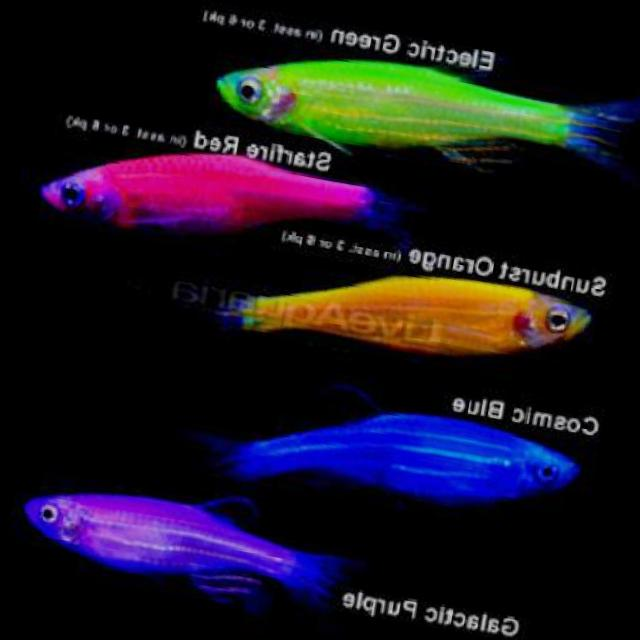ZebraFish: (206, 8, 640, 199), (231, 236, 599, 394), (228, 378, 584, 540), (31, 124, 388, 284), (6, 464, 342, 621)
